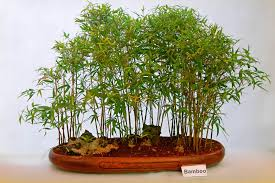bamboo: (17, 4, 260, 135)
